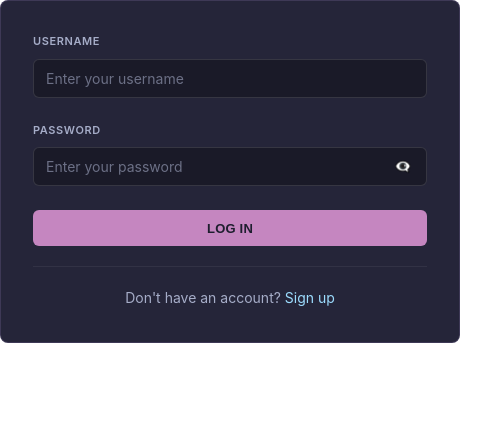
Test: LoginPage_emptySubmit_showsFieldErrors › should show field errors when submitting empty form
What coordinates should you click on to do the following:
click the button "LOG IN"
I would click on:
 (230, 228)
Its box is [33,210,427,246].
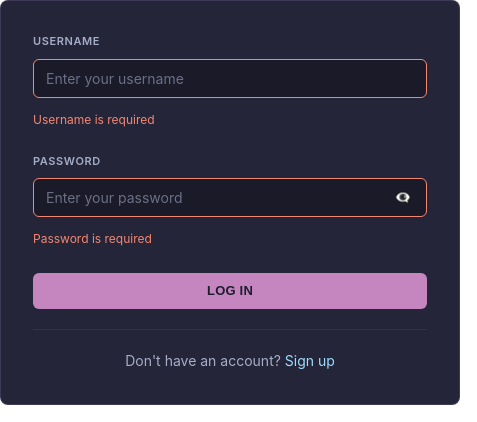
Expected: the text "Username is required" is shown, [33,112,155,127]
Expected: the text "Password is required" is shown, [33,231,152,246]
